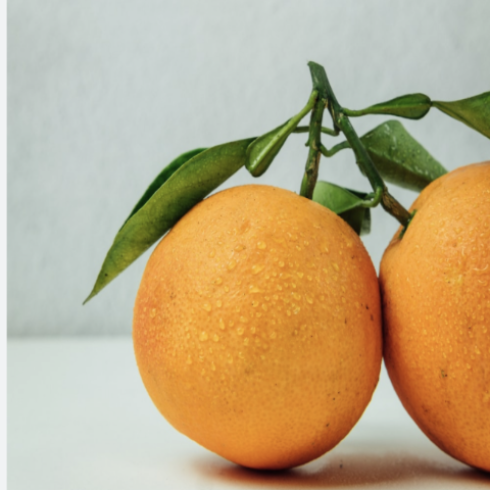orange: (108, 153, 409, 489)
